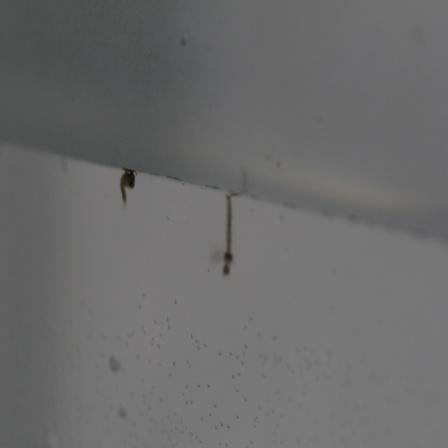Jentik-Nyamuk: (217, 189, 237, 282), (117, 167, 139, 207)
